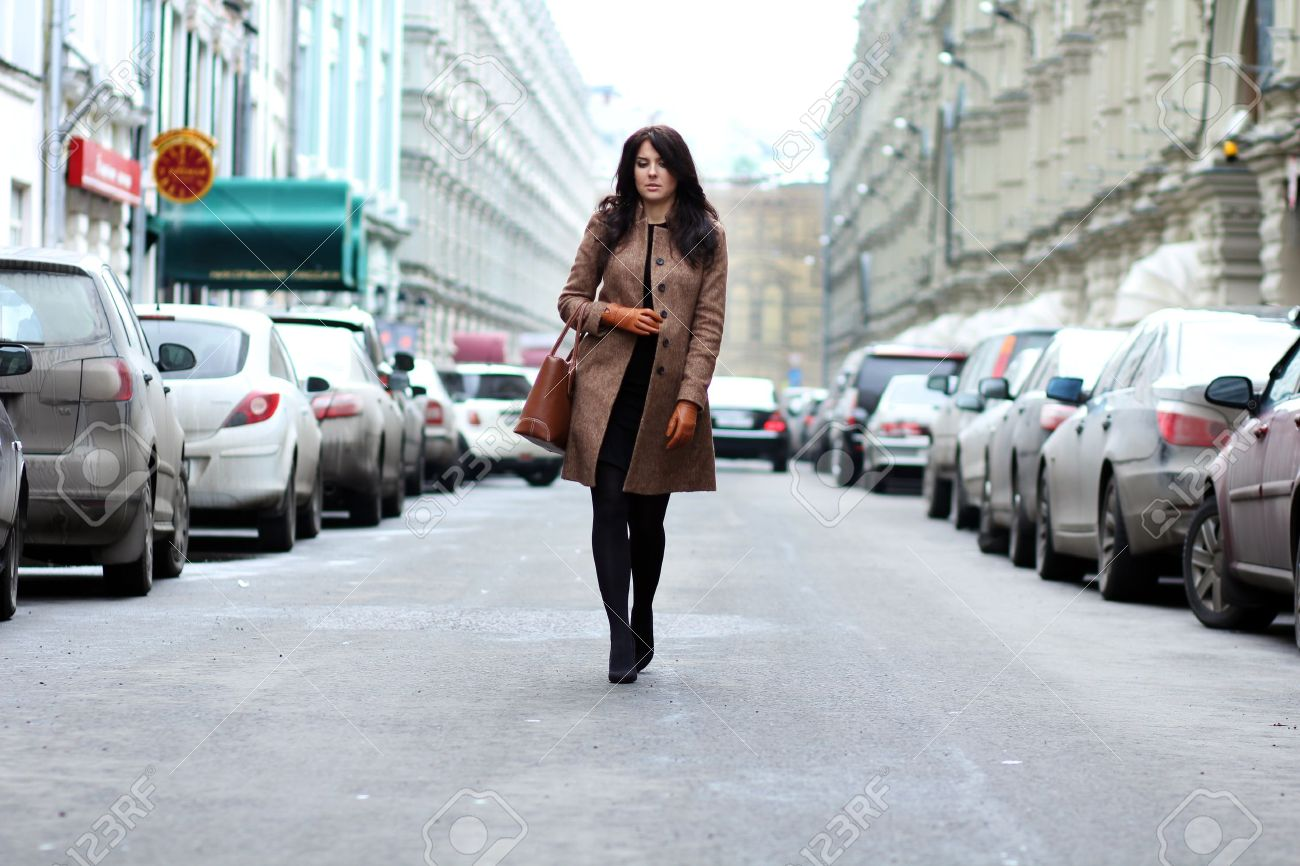Person: (513, 117, 735, 684)
